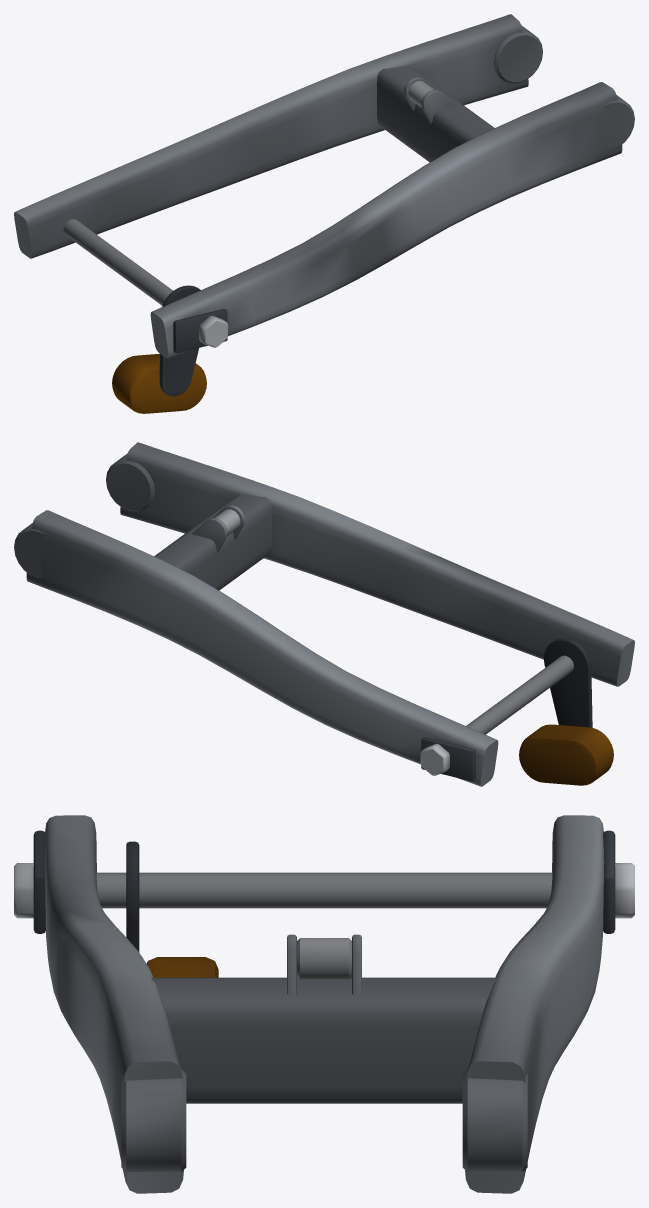
File: bike_duetto_swing.glb
The picture shows the model from 3 angles, top to bottom: view 1: azimuth 30°, elevation 25°; view 2: azimuth 150°, elevation 25°; view 3: azimuth 270°, elevation 25°; orthographic projection. The views are drawn at different scales.
Parts seen in each view (by area): view 1: bk_arm1, bk_arm-1, bk_armbridge, bk_rcaliper, bk_axleR, bk_pivboss-1, bk_rcarrier, bk_adjuster1, bk_pivboss1, bk_axlenut1, bk_shk_lugB1; view 2: bk_arm-1, bk_arm1, bk_armbridge, bk_rcaliper, bk_rcarrier, bk_axleR, bk_pivboss1, bk_adjuster-1, bk_pivboss-1, bk_axlenut-1, bk_shk_lugB-1; view 3: bk_armbridge, bk_arm1, bk_arm-1, bk_axleR, bk_pivboss1, bk_pivboss-1, bk_shk_eyeB, bk_rcarrier, bk_rcaliper, bk_adjuster-1, bk_adjuster1, bk_axlenut1 (+3 smaller).
Part boxes in pixels (x1,y1,x2,y2): bk_arm1: [150, 82, 622, 358]; bk_arm-1: [14, 14, 528, 258]; bk_armbridge: [376, 66, 494, 162]; bk_rcaliper: [112, 353, 206, 413]; bk_axleR: [63, 219, 172, 305]; bk_pivboss-1: [494, 26, 542, 83]; bk_rcarrier: [159, 285, 200, 396]; bk_adjuster1: [173, 309, 227, 352]; bk_pivboss1: [603, 95, 634, 149]; bk_axlenut1: [199, 315, 228, 347]; bk_shk_lugB1: [421, 90, 457, 123]; bk_arm-1: [26, 510, 498, 786]; bk_arm1: [120, 442, 634, 686]; bk_armbridge: [154, 494, 272, 590]; bk_rcaliper: [519, 724, 613, 785]; bk_rcarrier: [544, 638, 592, 727]; bk_axleR: [466, 655, 573, 734]; bk_pivboss1: [106, 453, 154, 511]; bk_adjuster-1: [421, 737, 475, 781]; bk_pivboss-1: [14, 523, 45, 577]; bk_axlenut-1: [420, 743, 449, 775]; bk_shk_lugB-1: [192, 518, 227, 551]; bk_armbridge: [151, 977, 497, 1103]; bk_arm1: [44, 815, 183, 1193]; bk_arm-1: [465, 815, 604, 1193]; bk_axleR: [96, 872, 552, 908]; bk_pivboss1: [121, 1069, 186, 1171]; bk_pivboss-1: [462, 1069, 527, 1171]; bk_shk_eyeB: [297, 938, 351, 979]; bk_rcarrier: [126, 841, 139, 951]; bk_rcaliper: [146, 957, 218, 977]; bk_adjuster-1: [603, 830, 615, 933]; bk_adjuster1: [33, 830, 45, 933]; bk_axlenut1: [14, 863, 33, 918].
Bounding box in the file's own units: 0.661 × 0.2817 × 0.382.
